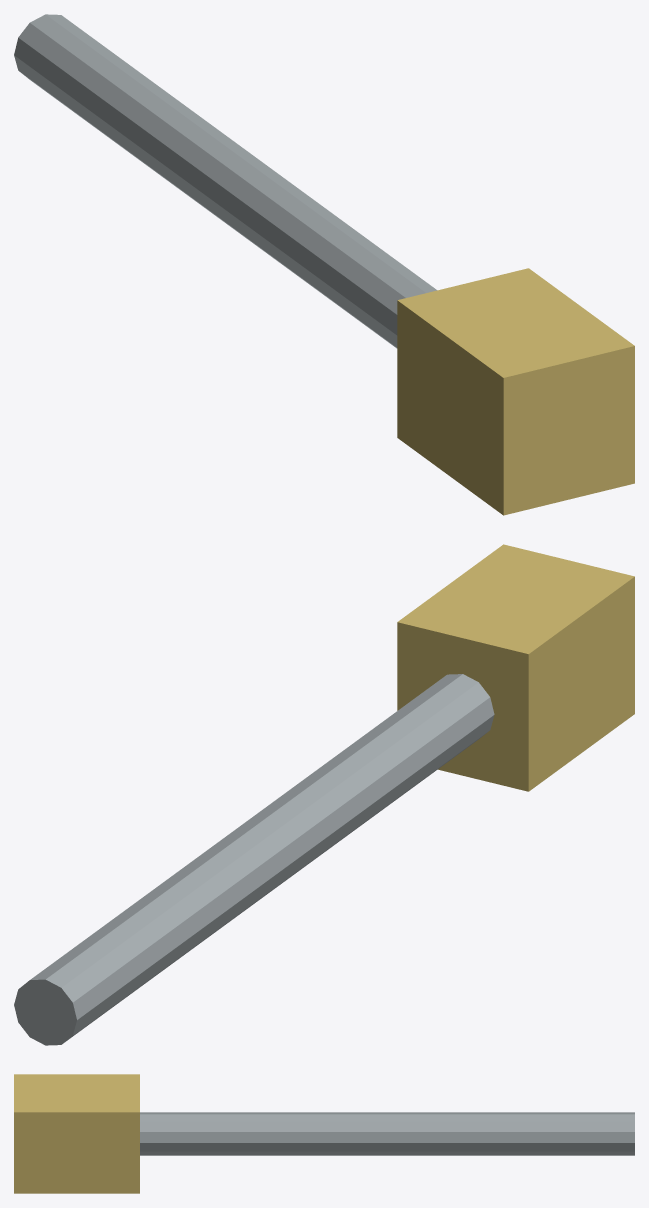
File: streetlight.glb
3 renders of one model, top to bottom at view 1: azimuth 30°, elevation 25°; view 2: azimuth 150°, elevation 25°; view 3: azimuth 270°, elevation 25°, orthographic. The views are drawn at different scales.
Visible parts, largest first — view 1: g1, g0; view 2: g0, g1; view 3: g0, g1.
Boxes of the visible parts, x1,y1,x2,y2 form: g1: (397, 268, 634, 515); g0: (14, 14, 437, 348); g0: (14, 674, 494, 1045); g1: (397, 544, 634, 791); g0: (140, 1112, 634, 1155); g1: (14, 1074, 139, 1193).
Bounding box in the file's own units: 0.5 × 0.5 × 3.45.
